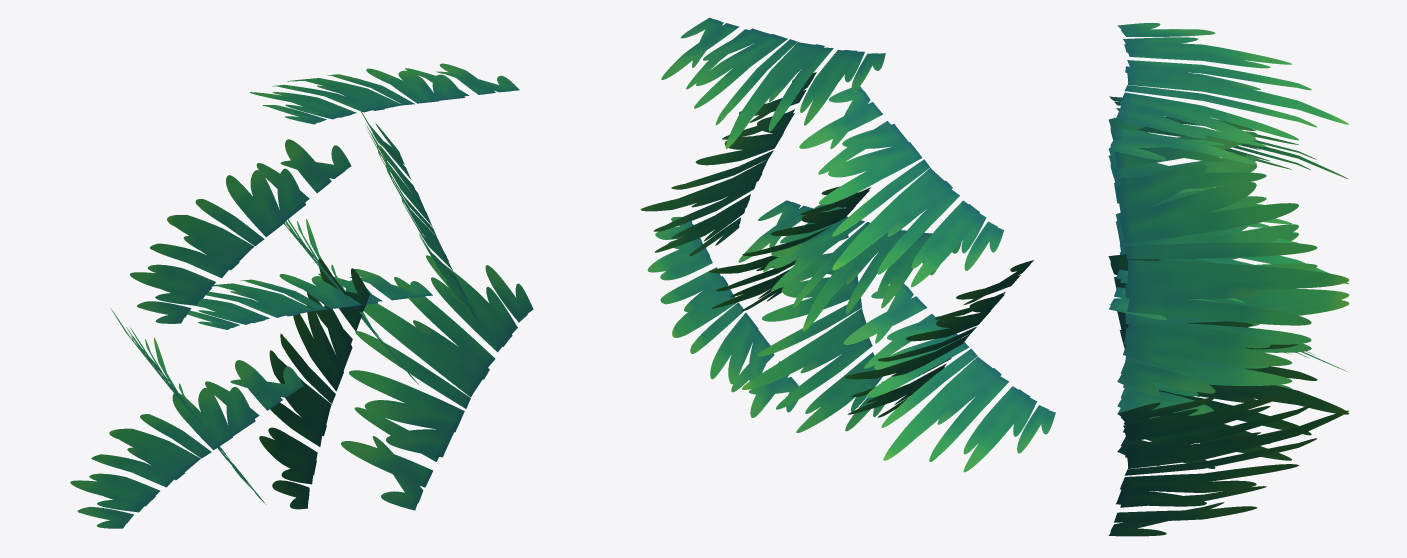
File: grass5.fbx
The picture shows the model from 3 angles, left to right: view 1: azimuth 30°, elevation 25°; view 2: azimuth 150°, elevation 25°; view 3: azimuth 270°, elevation 25°; orthographic projection. The views are drawn at different scales.
Parts seen in each view (by area): view 1: Grass_01.008; view 2: Grass_01.008; view 3: Grass_01.008.
Part boxes in pixels (bbox=[...]): Grass_01.008: bbox=[70, 63, 533, 528]; Grass_01.008: bbox=[640, 17, 1055, 472]; Grass_01.008: bbox=[1108, 22, 1349, 536].
Bounding box in the file's own units: 174 × 162 × 89.17.
